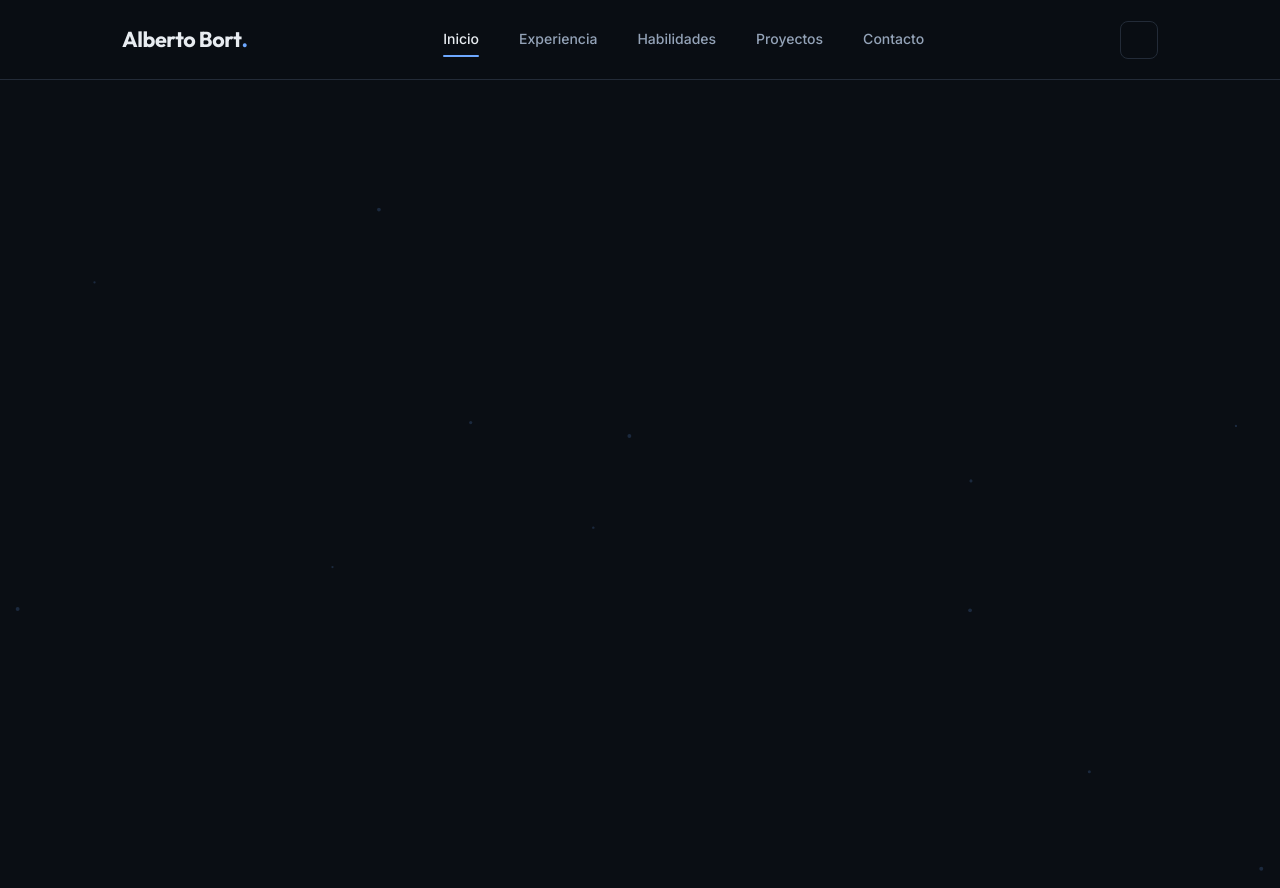
it: la navegación a Experiencia carga la página con lazy loading
What coordinates should you click on to do the following:
click the link "Experiencia"
I would click on:
 (558, 40)
Its box is [519,28,597,51].
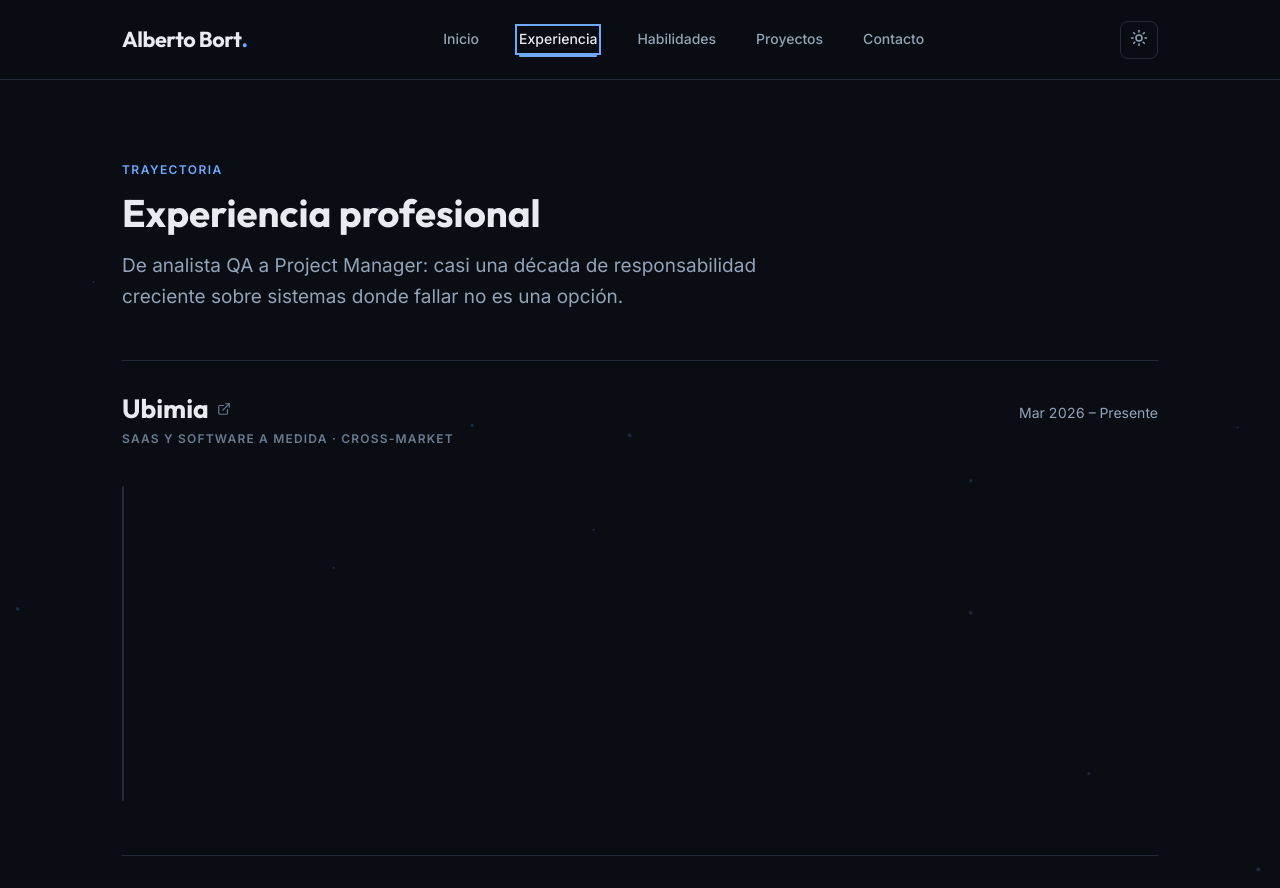
Now the link "Ubimia" is shown, box [122,393,231,425]
